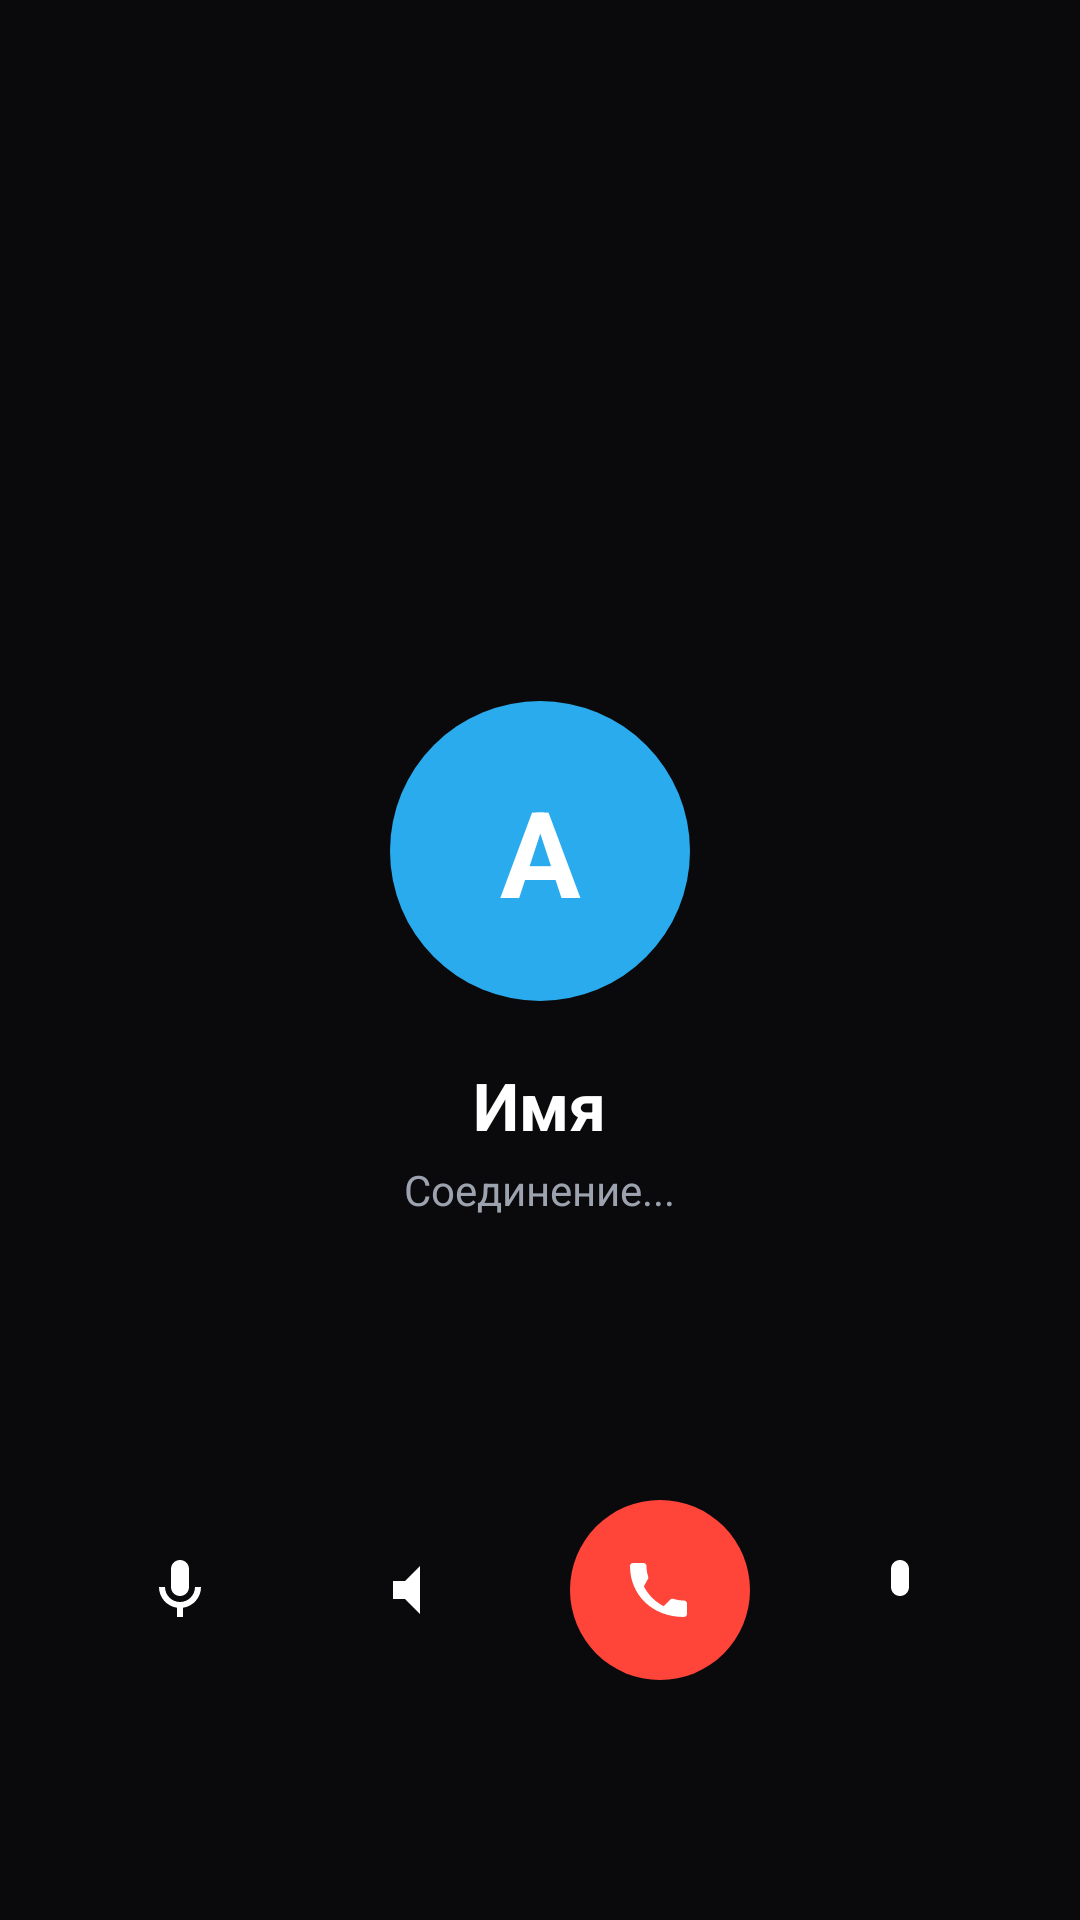

Screen size 1080 x 1920. Icon name, then its box in pixels as (x1, y1, x2, y2):
call end: (570, 1500, 750, 1680)
mic: (159, 1560, 201, 1617)
speaker: (393, 1566, 420, 1614)
